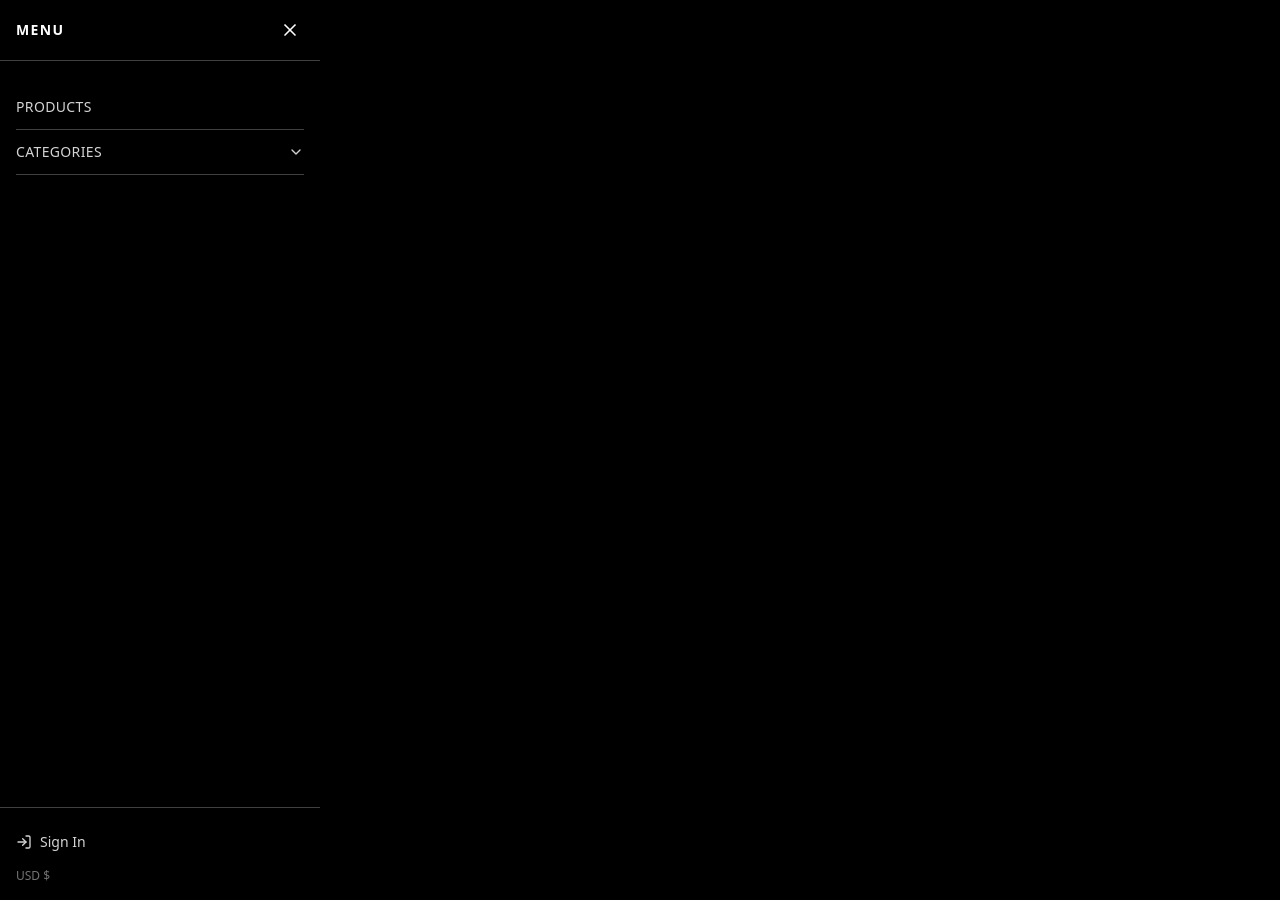
Test case: MobileMenuDrawer › shows category links when Categories is expanded
This screenshot has width=1280, height=900.
// Click Categories to expand
Click the button "Categories". click: (59, 152)
box: [16,130,304,174]
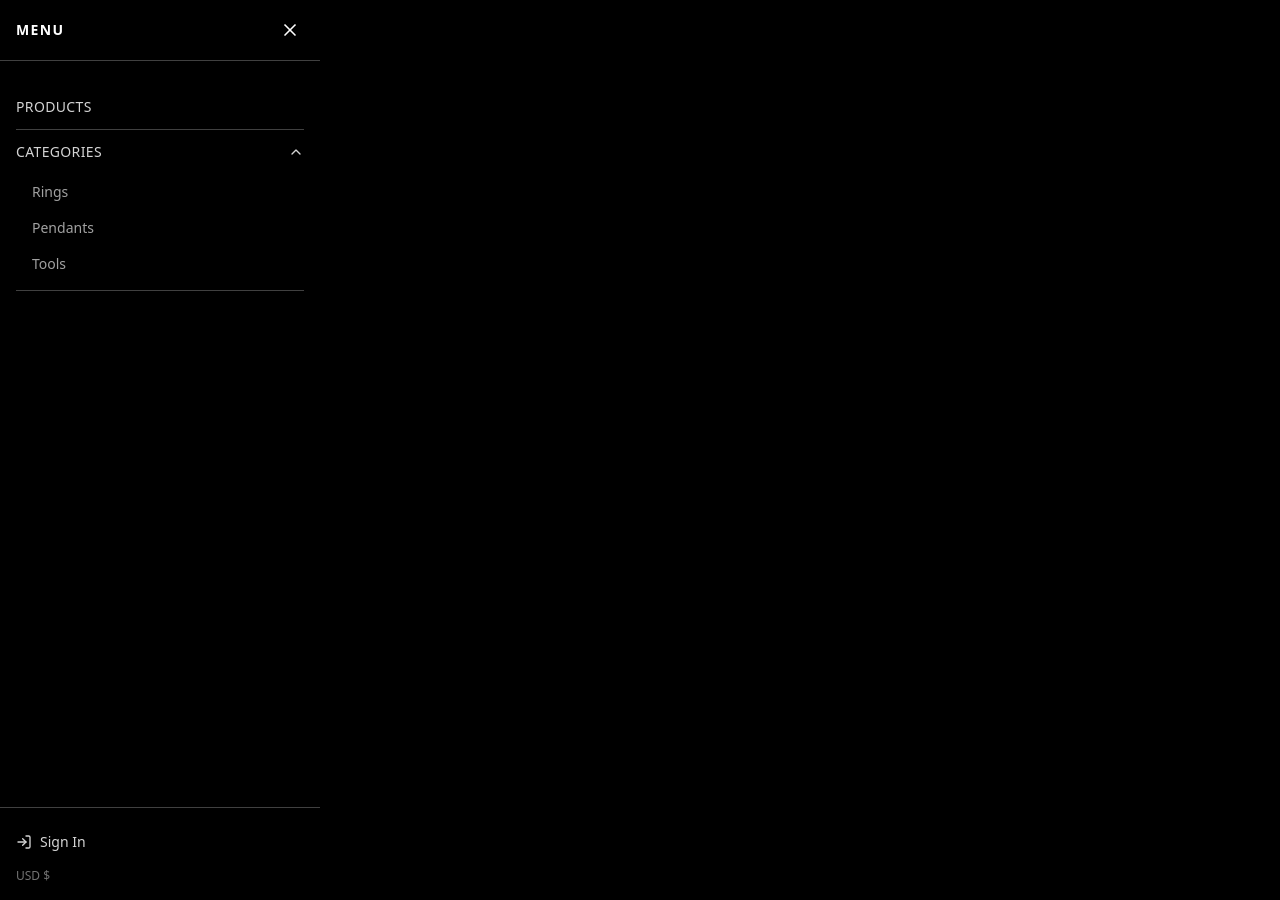
Check: the link "Rings" is shown, box [32,182,68,201]
Check: the link "Pendants" is shown, box [32,218,94,237]
Check: the link "Tools" is shown, box [32,254,66,273]
